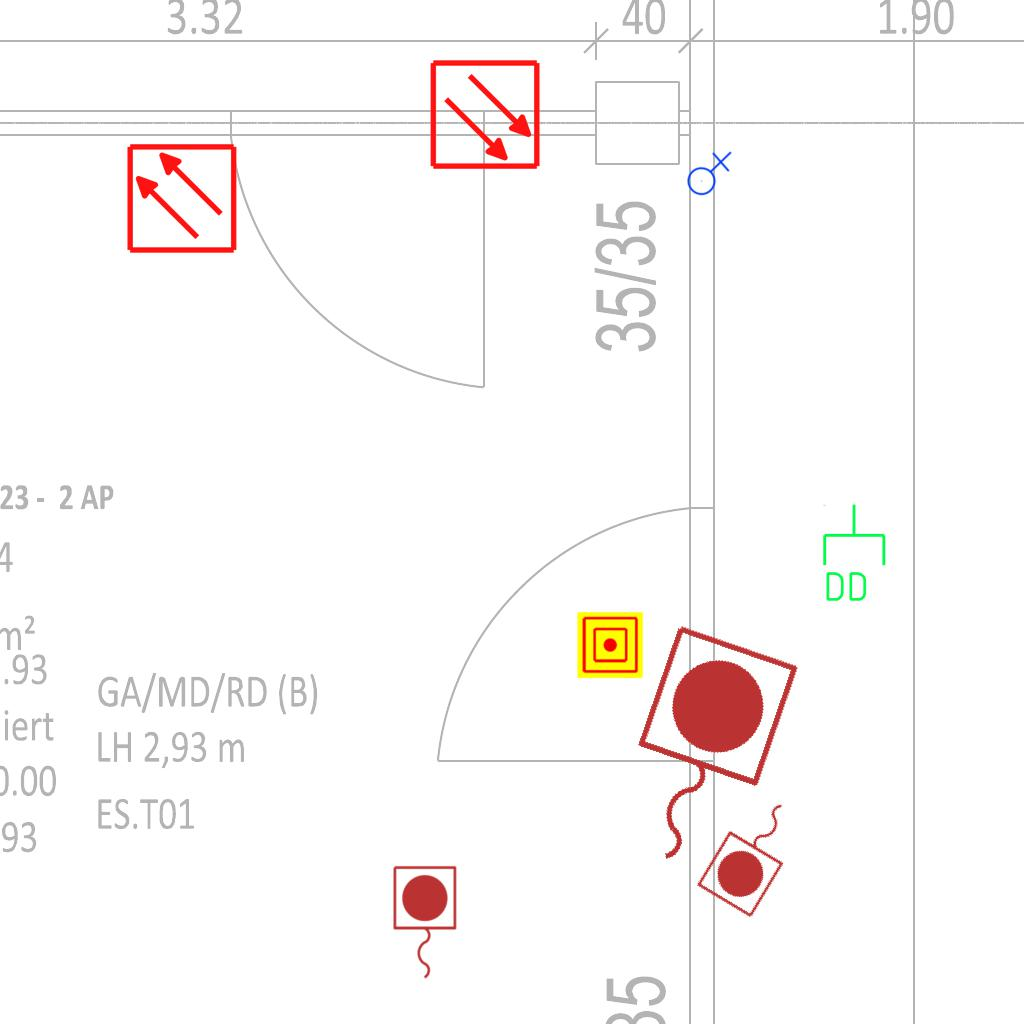Datenanschluss_zweifach: (819, 502, 888, 605)
Elektroanschluss_allgemein_230V_Geraeteanschlussdose_230V: (683, 149, 732, 196)
NAM-Nichtautomatischer_Melder: (577, 612, 643, 678)
RMO_Rauchmelder_optischer: (125, 142, 238, 255), (429, 58, 542, 171)
Zugtaster: (592, 614, 808, 892), (691, 782, 817, 924), (388, 862, 460, 984)
